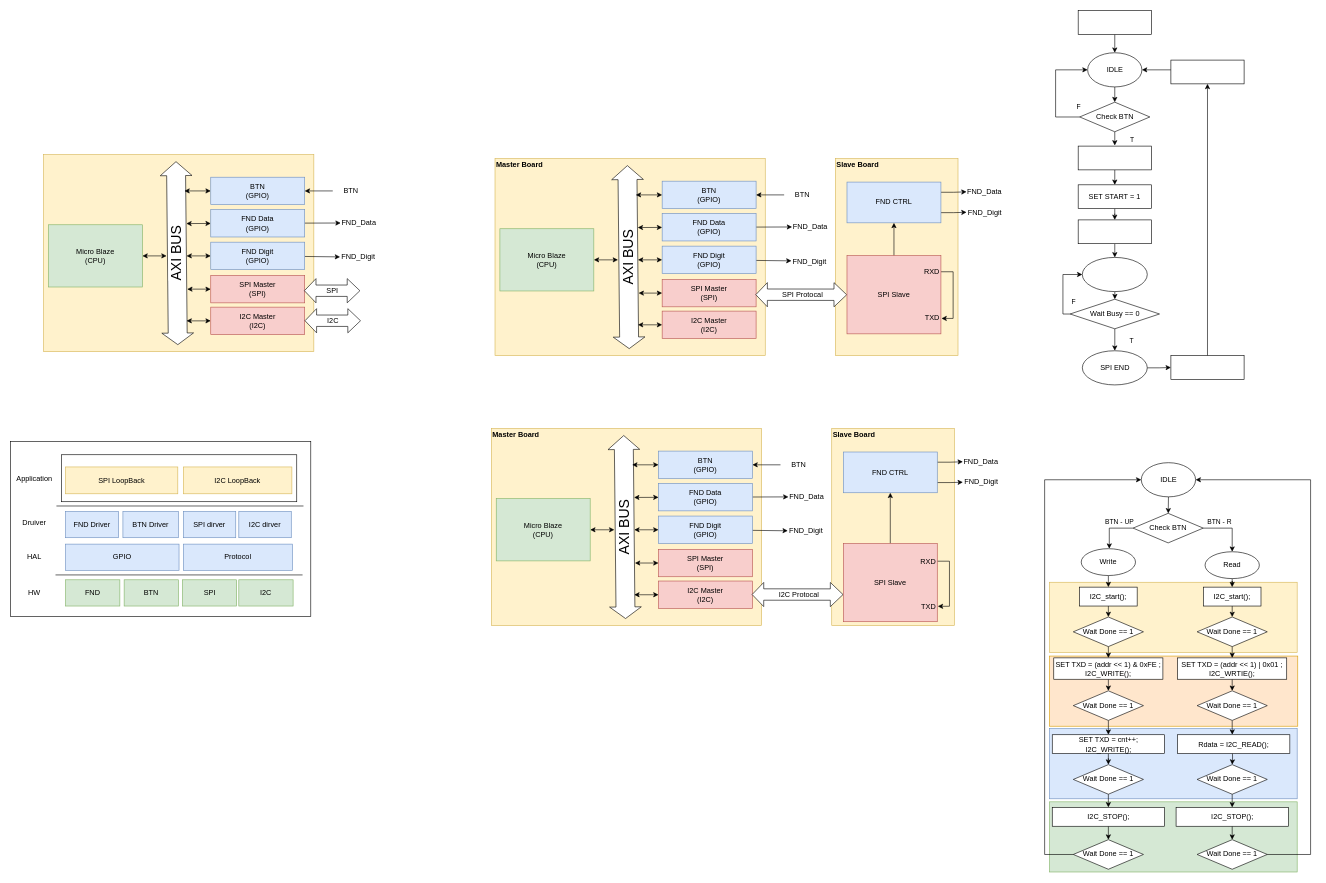
The diagram is 1326 pixels wide and 883 high, and some of its shapes have lost their labels. Here are the shapes that lost their labels. From the top down, the centre of each, then its label:
At pixel 1114 22: "SPI Init()".
At pixel 1207 71: "FND DATA = RXD".
At pixel 1114 157: "SET TXD = cnt ++".
At pixel 1114 231: "SET START = 0".
At pixel 1114 274: "SPI SEND".
At pixel 1207 367: "READ RXD".
